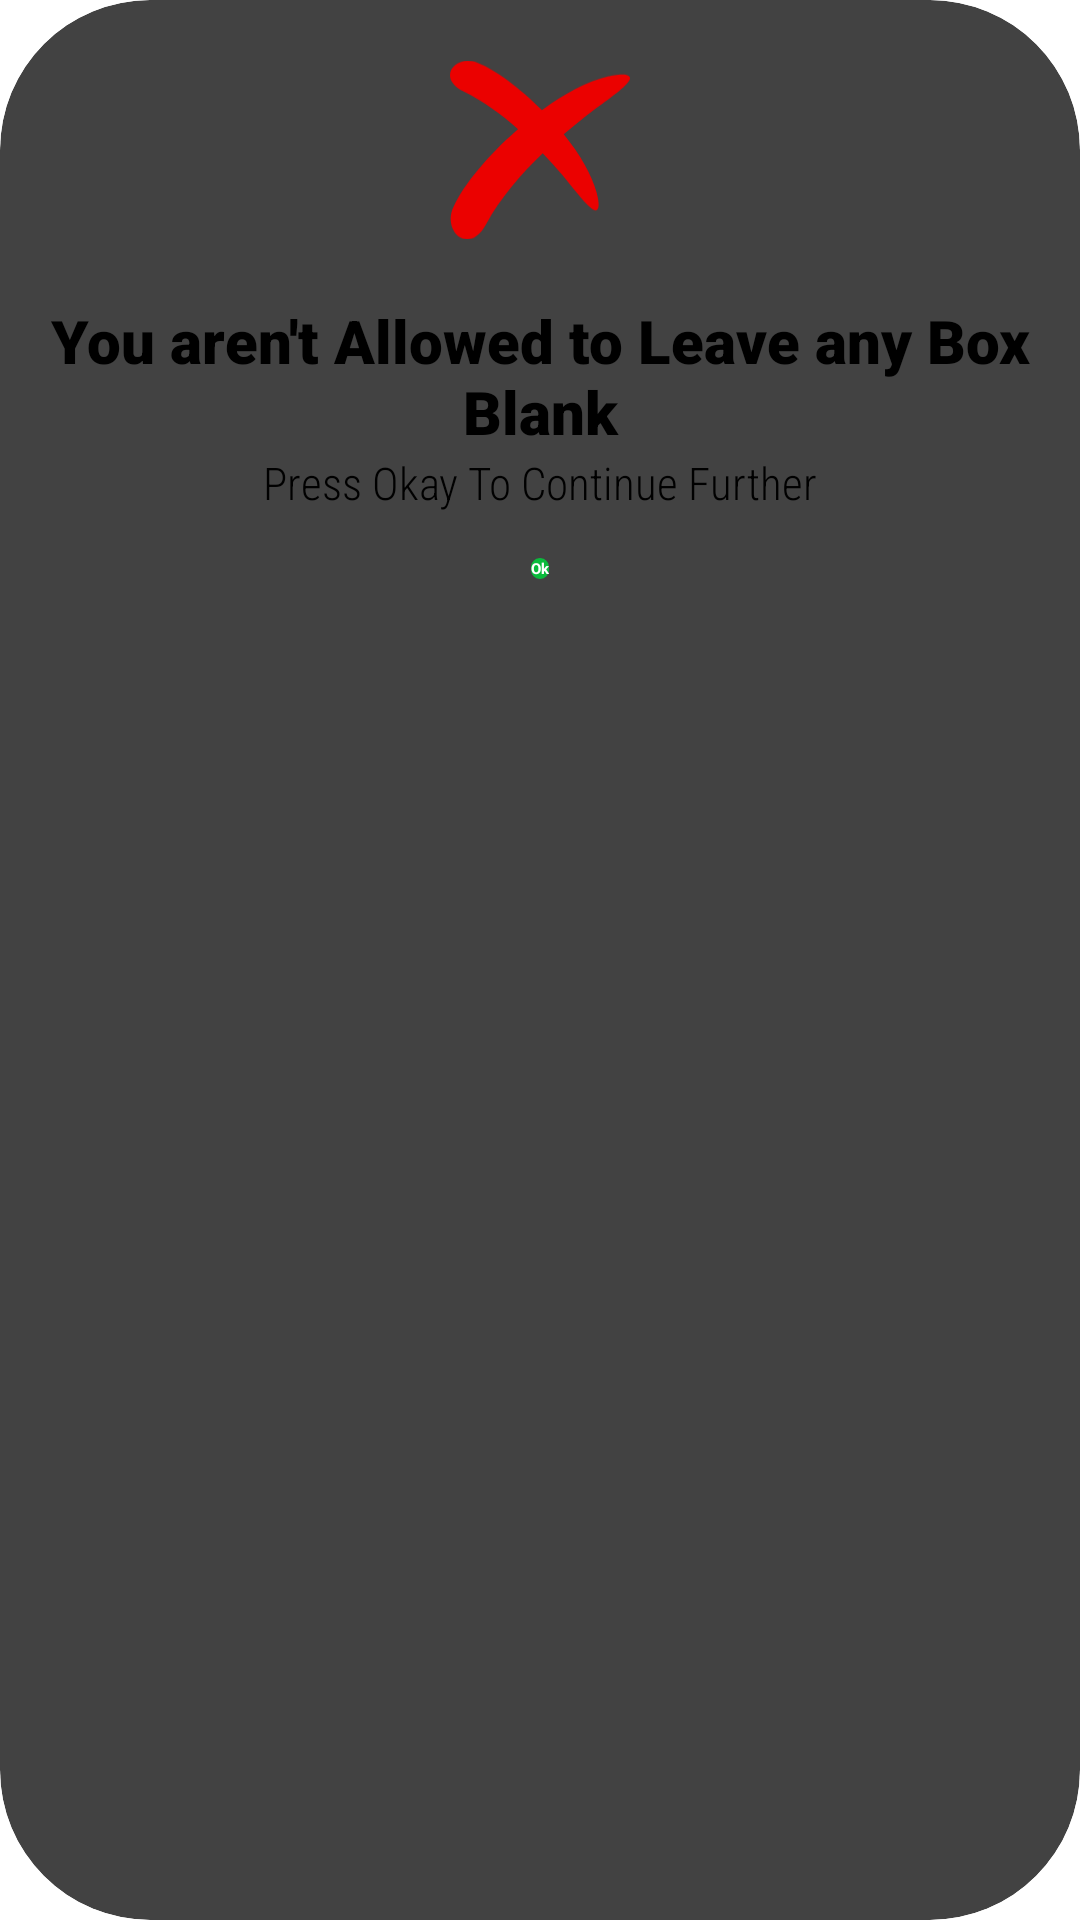

Point at icon controls on the screen. Image size 1080x1920, points as (x,y).
incorrect: (540,150)
